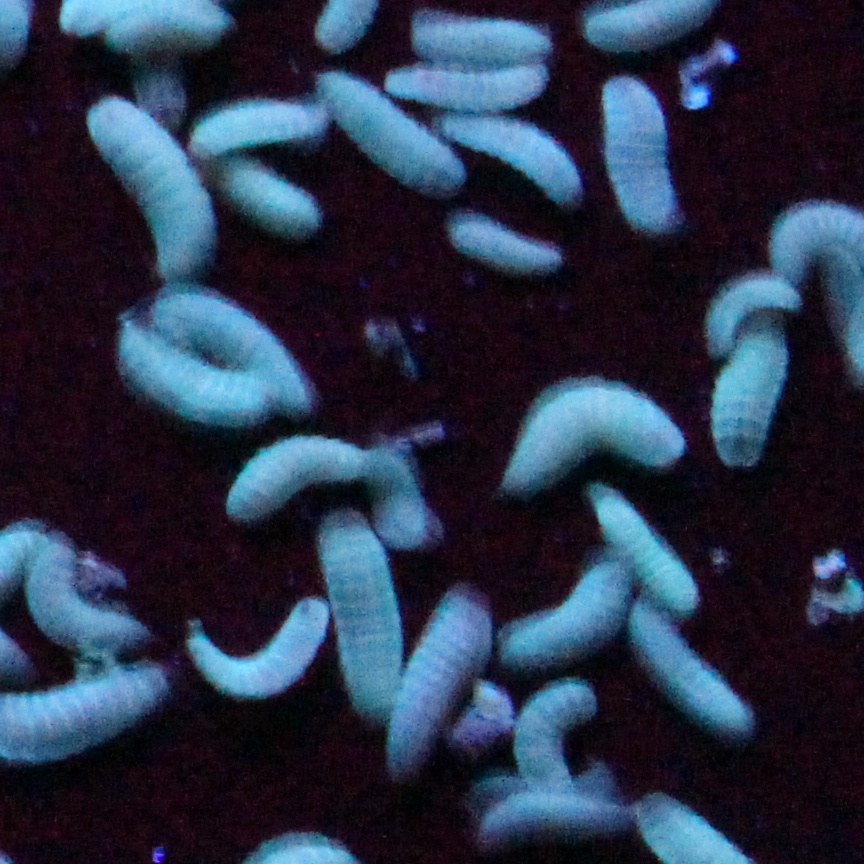larve: (82, 96, 242, 284), (622, 600, 766, 732), (310, 72, 462, 196), (514, 384, 674, 500), (162, 292, 326, 400), (324, 515, 405, 719), (590, 80, 694, 236), (110, 322, 282, 412), (402, 596, 478, 772), (442, 124, 586, 208), (223, 444, 354, 534), (496, 570, 618, 666), (190, 604, 318, 684), (511, 679, 595, 793), (590, 492, 682, 592), (470, 792, 606, 848), (706, 268, 794, 352), (226, 160, 322, 236), (722, 328, 766, 468), (426, 20, 542, 68), (386, 72, 558, 104), (386, 236, 586, 252)
